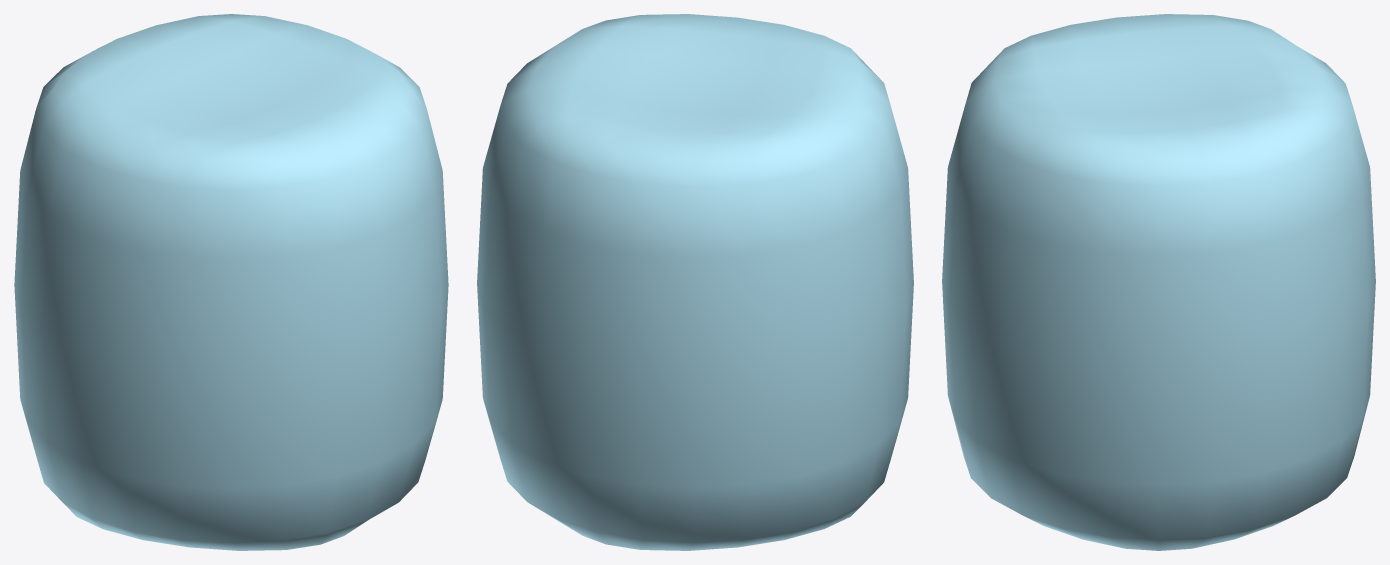
Rendered from Marshmallow Blue.fbx.
The picture shows the model from 3 angles, left to right: view 1: azimuth 30°, elevation 25°; view 2: azimuth 150°, elevation 25°; view 3: azimuth 270°, elevation 25°; orthographic projection.
Visible parts, largest first — view 1: Marshmallow Blue; view 2: Marshmallow Blue; view 3: Marshmallow Blue.
Part boxes in pixels (<box>): Marshmallow Blue: <box>14,14,448,550</box>; Marshmallow Blue: <box>477,14,913,550</box>; Marshmallow Blue: <box>942,14,1375,550</box>.
Size of the model in its own units: 0.1566 by 0.1604 by 0.1566.
